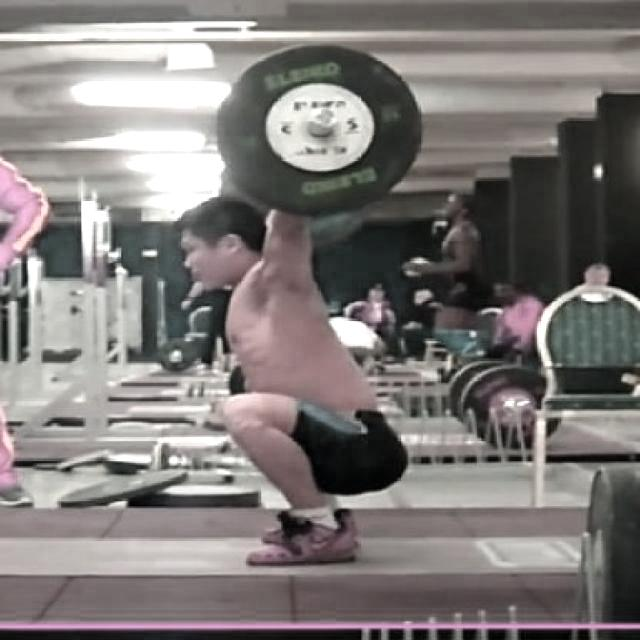barbell: (206, 30, 437, 218)
